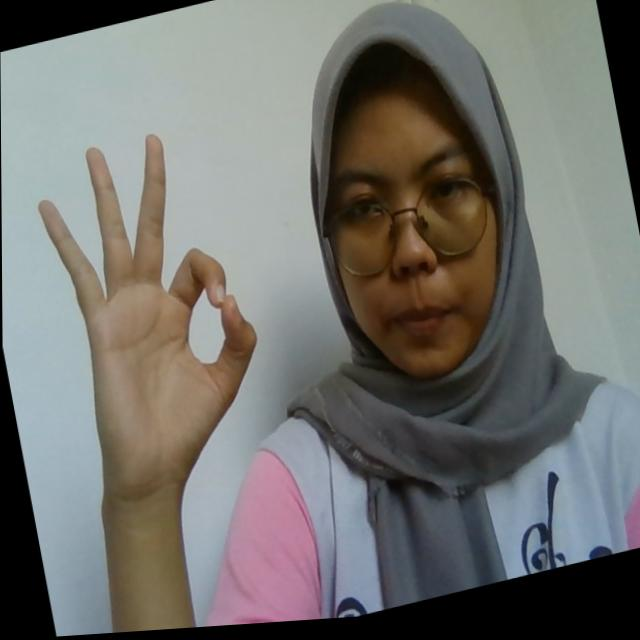F: (27, 112, 279, 502)
